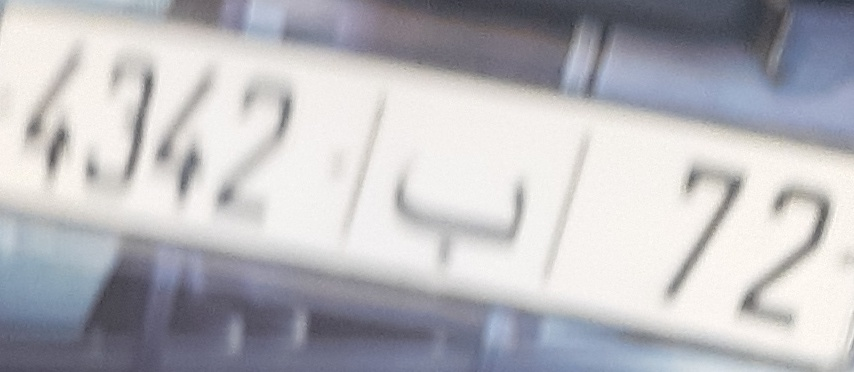2: (742, 180, 833, 321), (212, 75, 295, 226)
3: (89, 53, 155, 197)
4: (20, 41, 86, 182), (157, 65, 221, 206)
7: (660, 157, 746, 303)
b: (391, 159, 531, 269)
